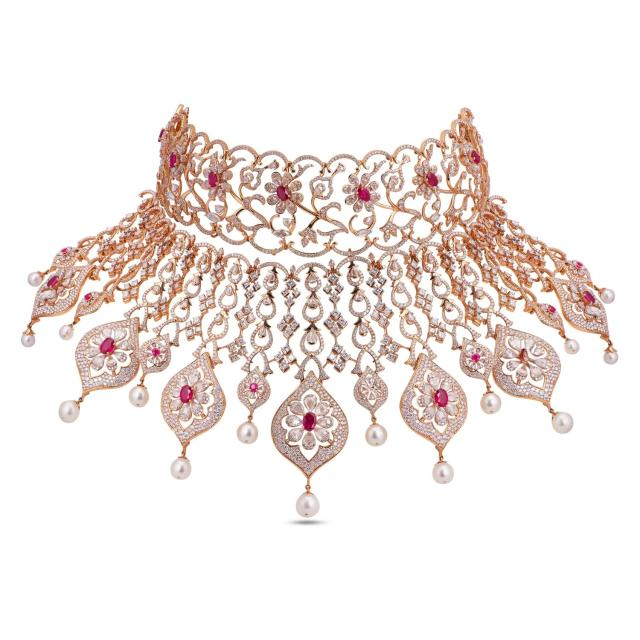missing gem: (518, 349, 533, 366), (368, 385, 376, 392)
